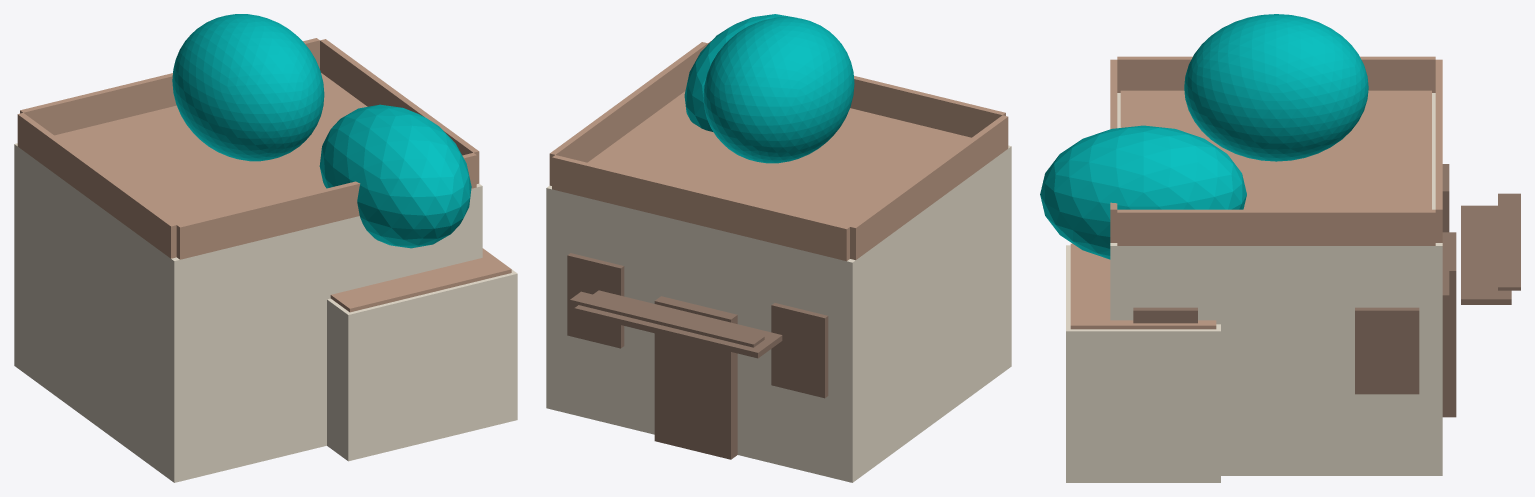
Rendered from persian-house-no-badgir.glb.
3 renders of one model, left to right at view 1: azimuth 30°, elevation 25°; view 2: azimuth 150°, elevation 25°; view 3: azimuth 270°, elevation 25°, orthographic. The views are drawn at different scales.
Visible parts, largest first — view 1: Persian_House_NoBadgir; view 2: Persian_House_NoBadgir; view 3: Persian_House_NoBadgir.
Boxes of the visible parts, x1,y1,x2,y2 form: Persian_House_NoBadgir: (14, 14, 517, 482); Persian_House_NoBadgir: (546, 14, 1011, 482); Persian_House_NoBadgir: (1040, 14, 1520, 482).
Size of the model in its own units: 8.36 by 9.02 by 10.42.
